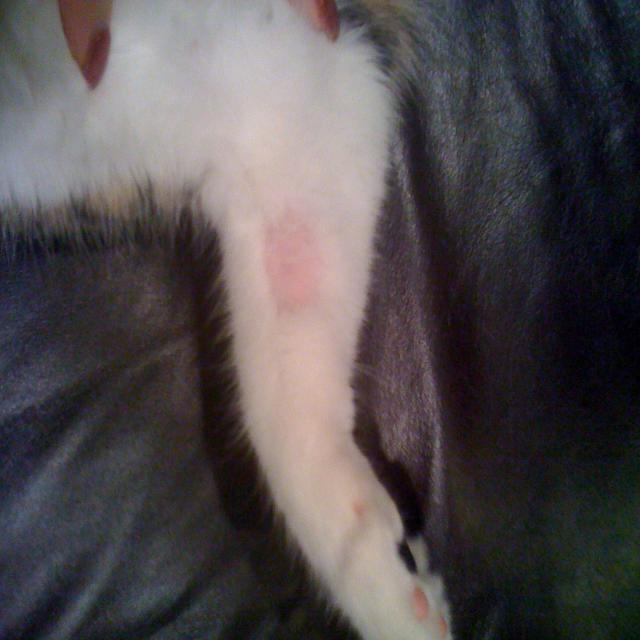hac lao: (208, 119, 396, 438)
